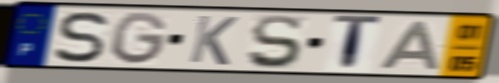A: (376, 20, 442, 72)
G: (109, 10, 171, 67)
K: (186, 13, 241, 67)
S: (245, 13, 304, 71), (52, 9, 112, 64)
T: (330, 14, 385, 74)
